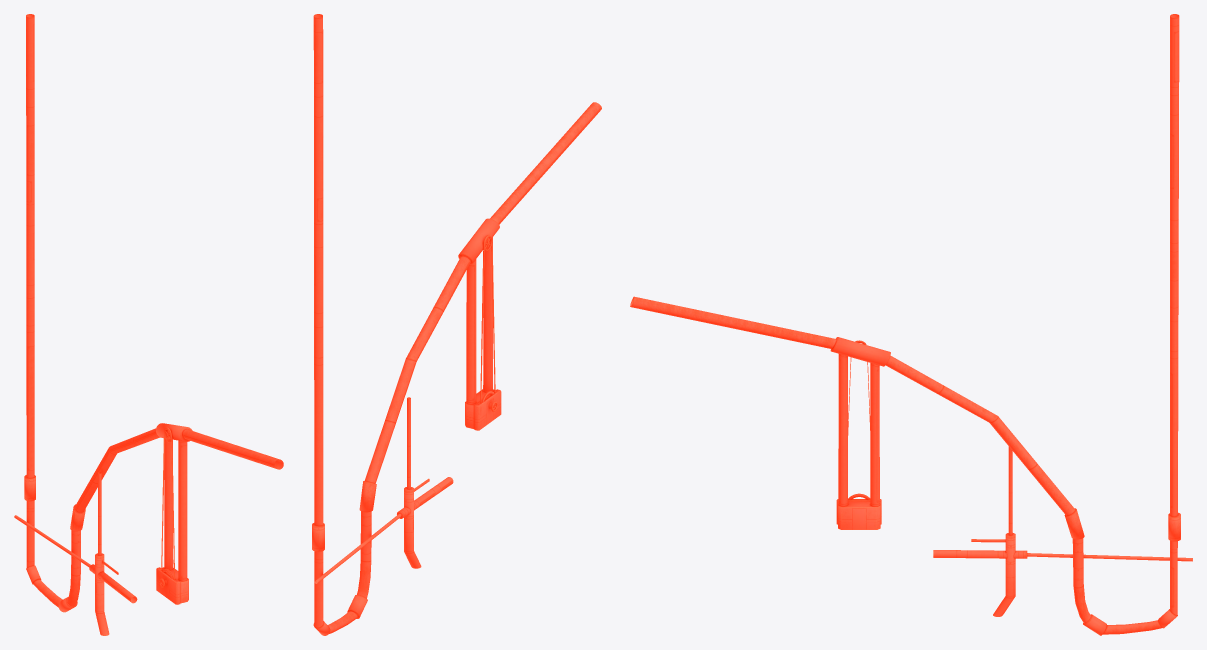
Rendered from industrial_pipes.glb.
3 views of the same model, side by side, from view 1: azimuth 30°, elevation 25°; view 2: azimuth 150°, elevation 25°; view 3: azimuth 270°, elevation 25° (orthographic). The views are drawn at different scales.
Parts seen in each view (by area): view 1: pipes_Low.001; view 2: pipes_Low.001; view 3: pipes_Low.001.
Boxes of the visible parts, left/top/right/bottom form: pipes_Low.001: left=14, top=14, right=283, bottom=635; pipes_Low.001: left=312, top=14, right=601, bottom=635; pipes_Low.001: left=630, top=14, right=1192, bottom=635.
Size of the model in its own units: 2.54 by 64.79 by 53.4.
1 material, 1 textured.
